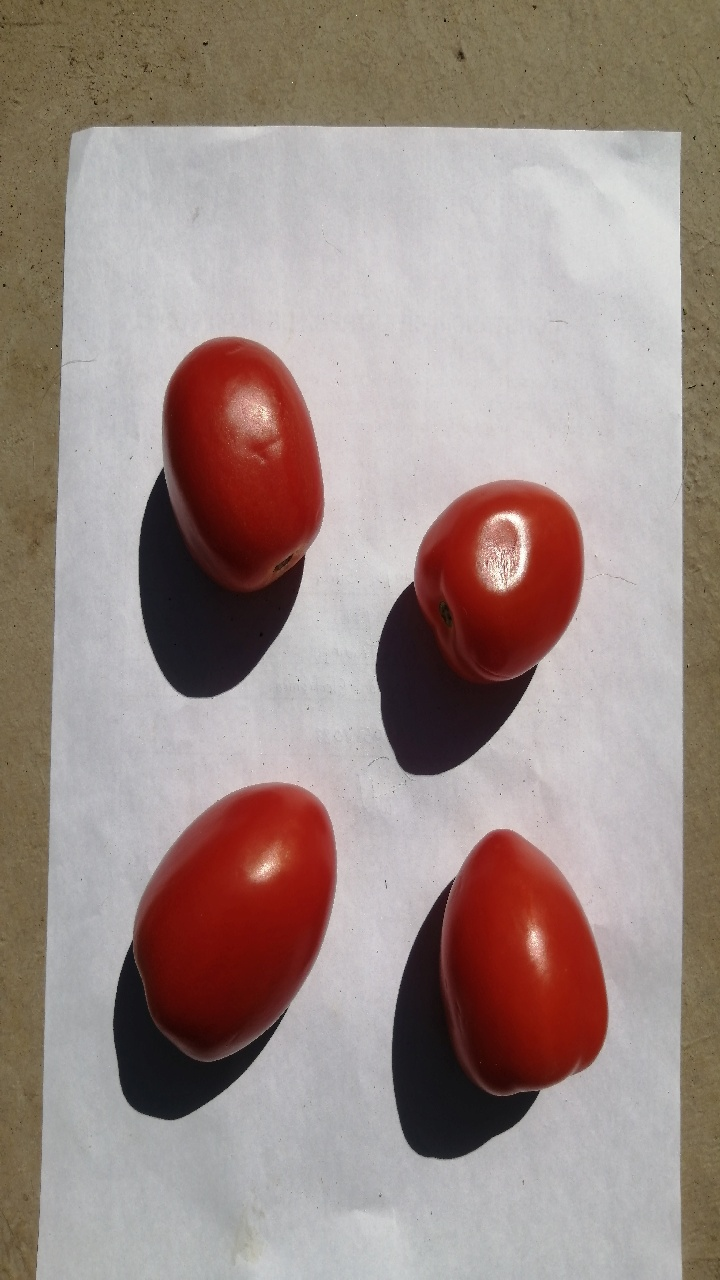tomateRojo: (108, 755, 348, 1105), (414, 805, 629, 1108), (383, 462, 609, 714), (151, 319, 343, 606)
